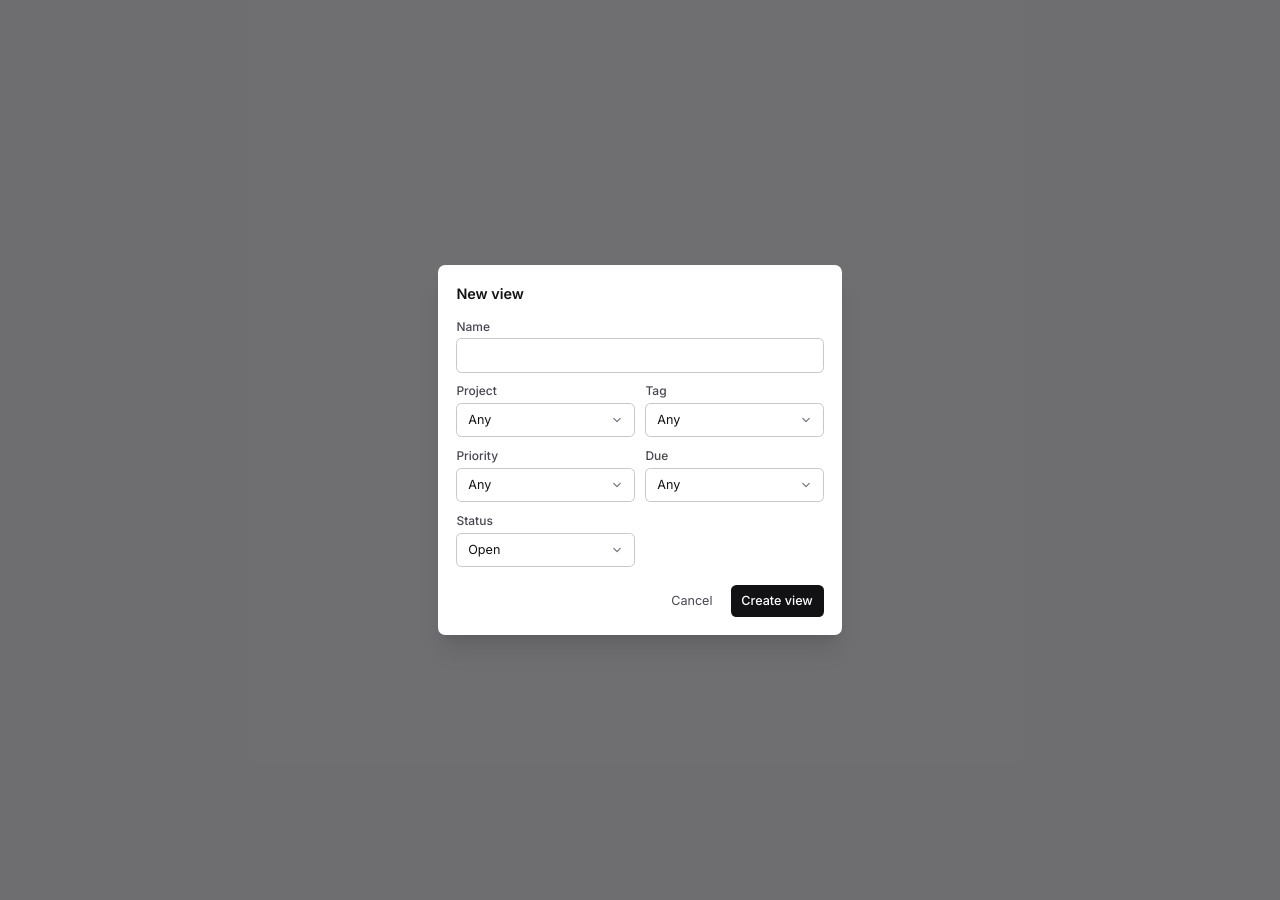
it: NewViewDialog › asks for a name before saving
The image size is (1280, 900).
Click the button "Create view" at coordinates (777, 601), box [730,585,824,617]
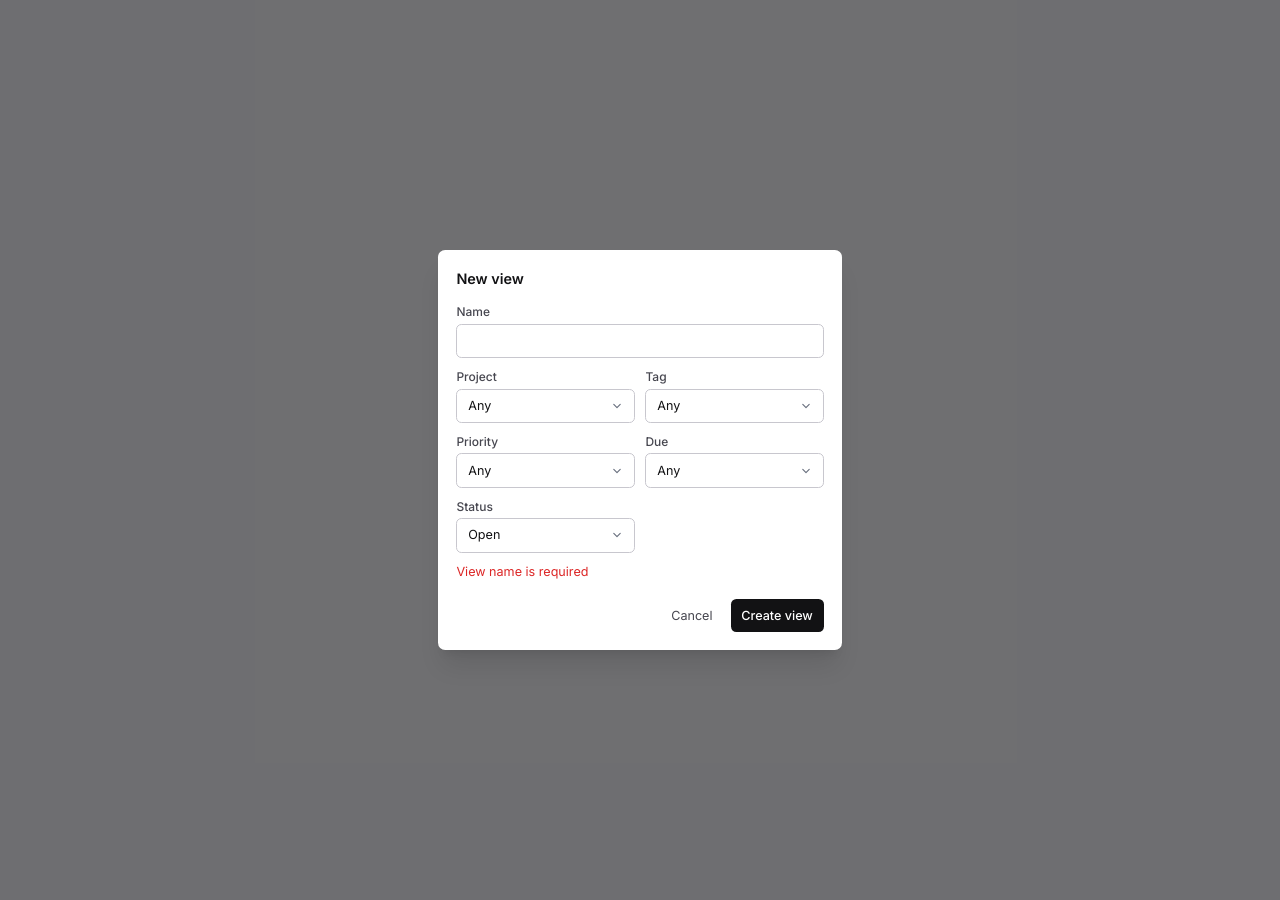
Expected: the text "View name is required" is shown, [456,564,588,579]
